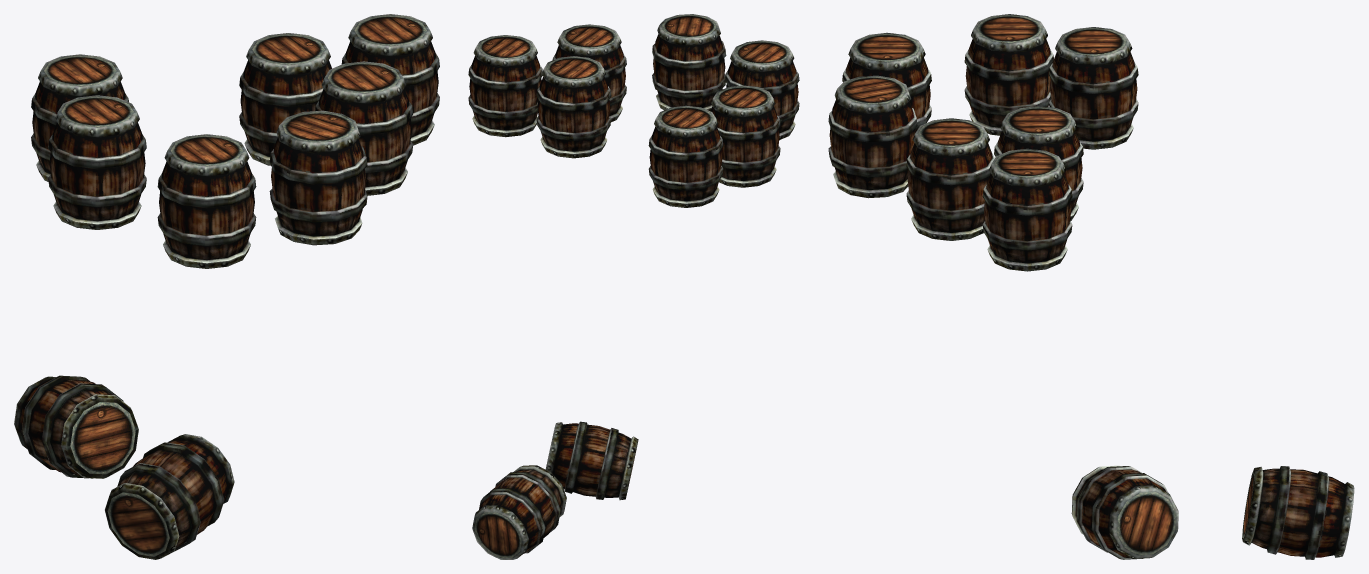
File: PUSH6_BARRELS.fbx
The picture shows the model from 3 angles, left to right: view 1: azimuth 30°, elevation 25°; view 2: azimuth 150°, elevation 25°; view 3: azimuth 270°, elevation 25°; orthographic projection. The views are drawn at different scales.
Visible parts, largest first — view 1: PUSH6_BARRELS; view 2: PUSH6_BARRELS; view 3: PUSH6_BARRELS.
Boxes of the visible parts, <box> form: PUSH6_BARRELS: <box>14,14,439,559</box>; PUSH6_BARRELS: <box>468,14,799,559</box>; PUSH6_BARRELS: <box>828,14,1354,559</box>.
Bounding box in the file's own units: 35846 × 45489 × 46166.
Materials: 2 (2 with a texture image).
